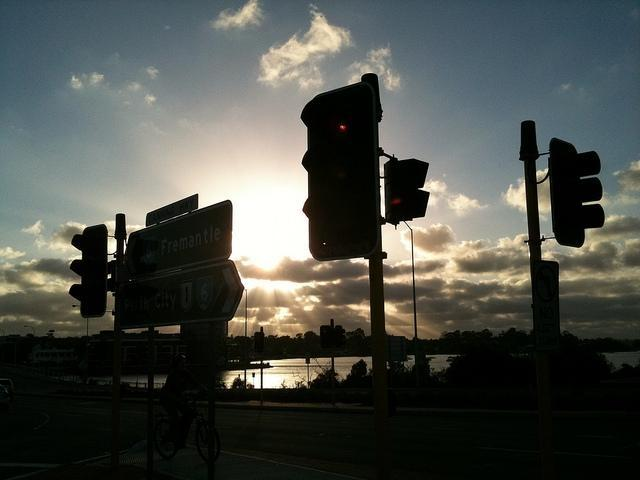bicycle: (154, 389, 222, 464)
